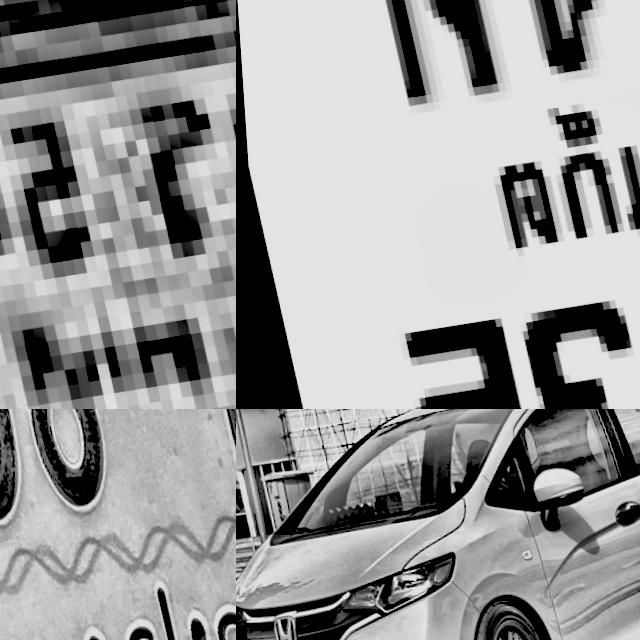license-plate: (236, 0, 640, 409), (0, 0, 236, 409), (0, 409, 236, 640)
